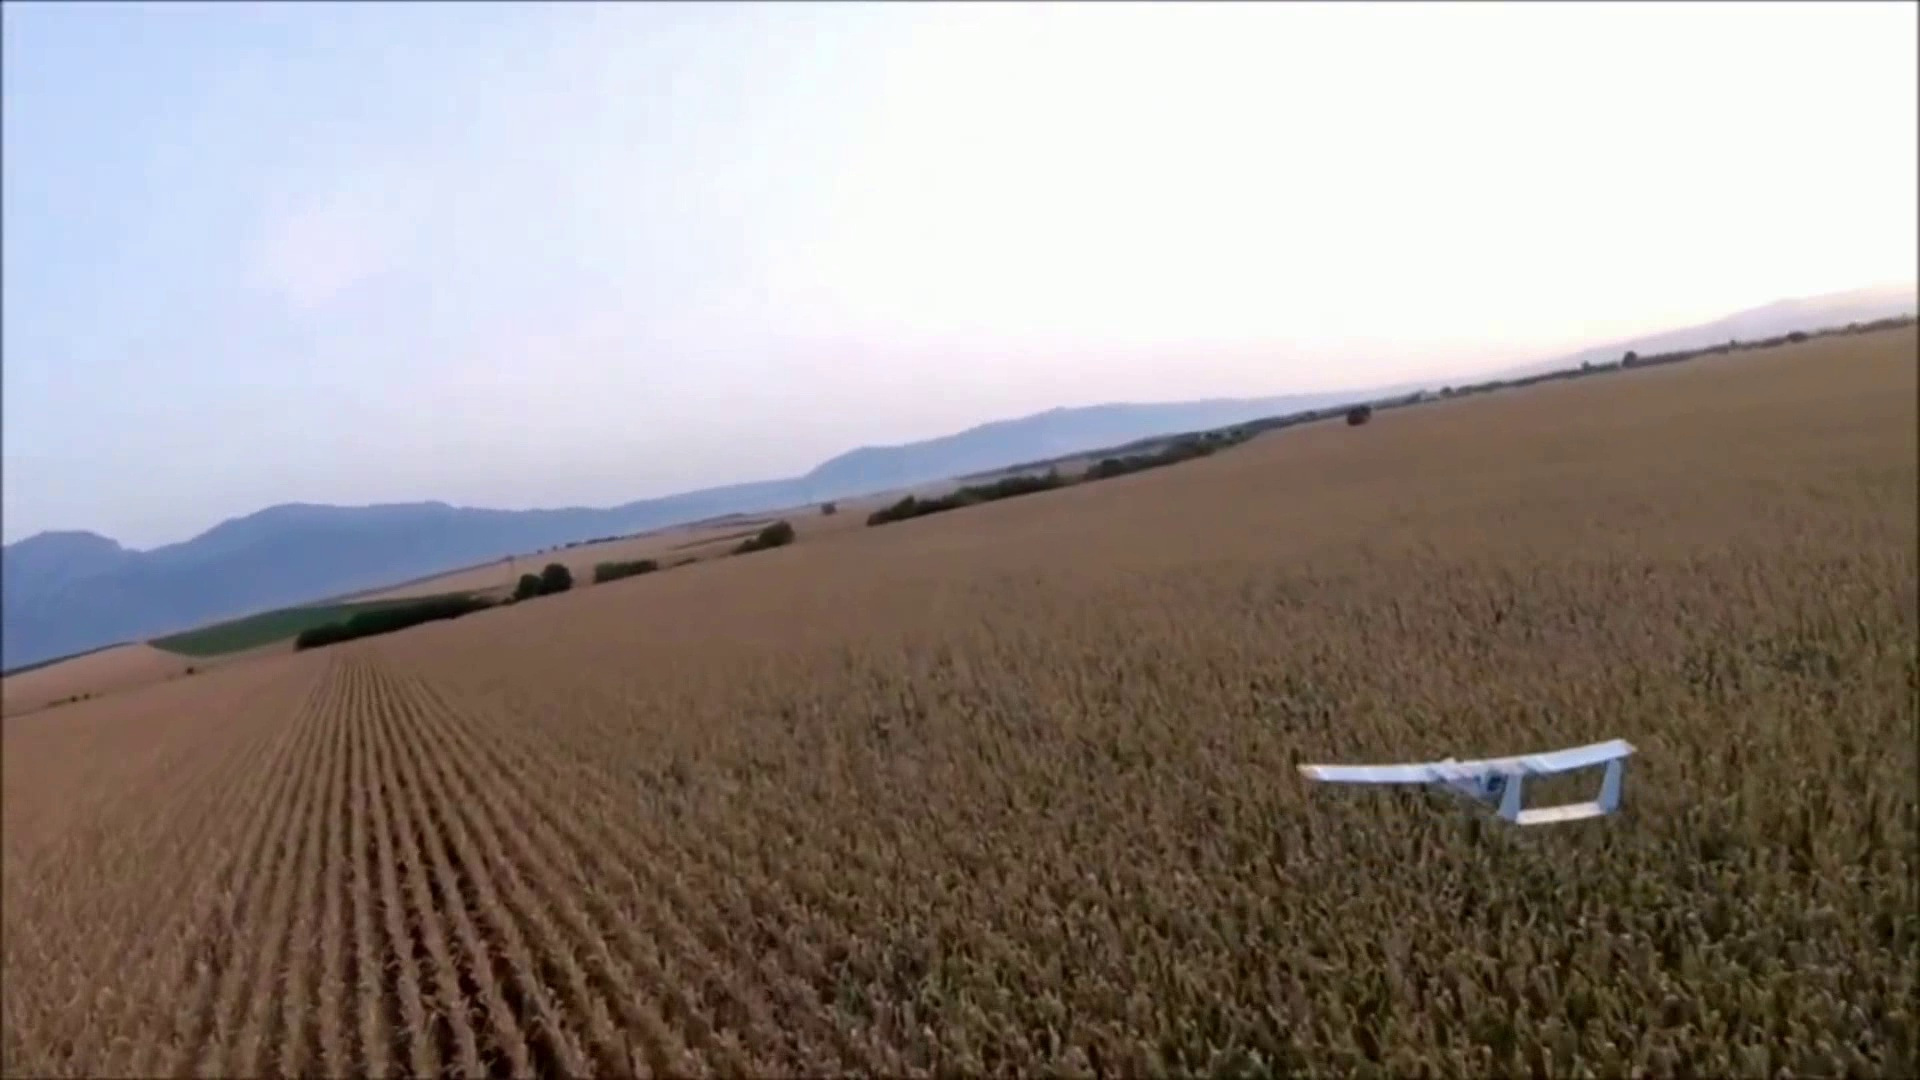airplane: (13, 278, 1894, 702), (1296, 741, 1634, 835)
